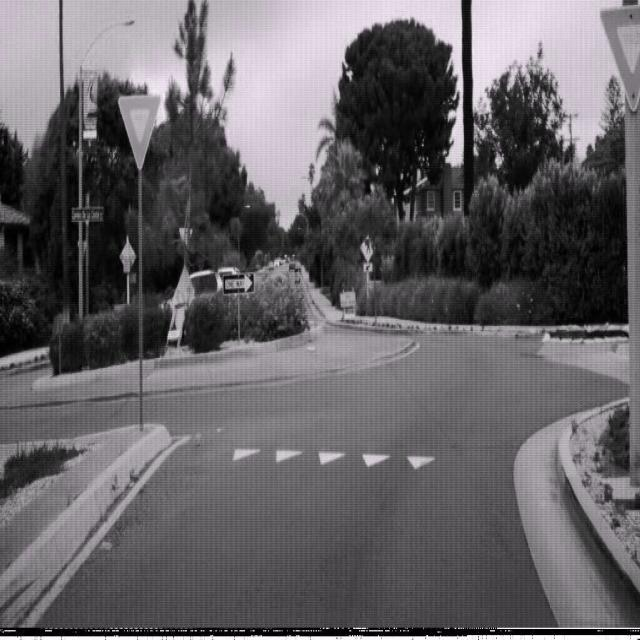yield: (569, 62, 622, 157), (118, 92, 160, 169)
